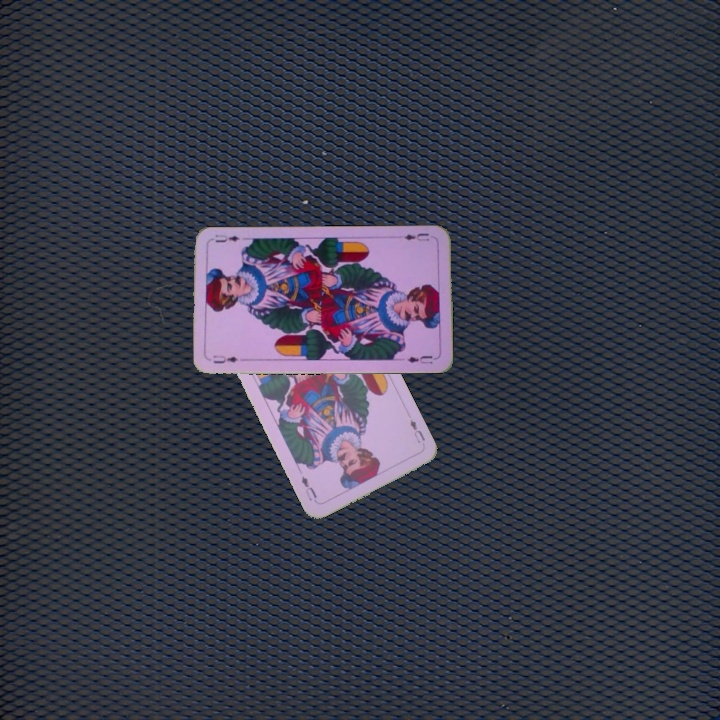EU: (406, 415, 428, 446), (209, 351, 248, 366), (396, 229, 432, 244)
